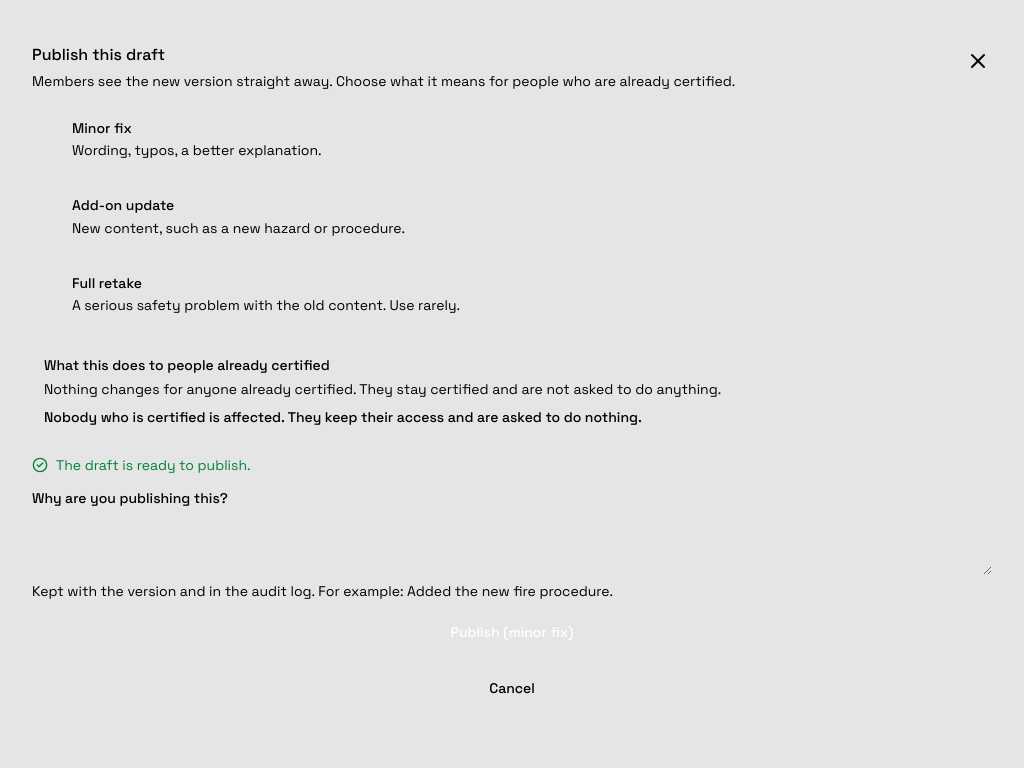
Test: PublishDialog publishing › lists what the server refused and keeps the dialog open
Expected: the text "The draft is ready to publish." is shown, [32,456,250,474]
Type "  New fire procedure " into the text box labelled "Why are you publishing this?". click: (512, 542)
box: [32,510,992,574]
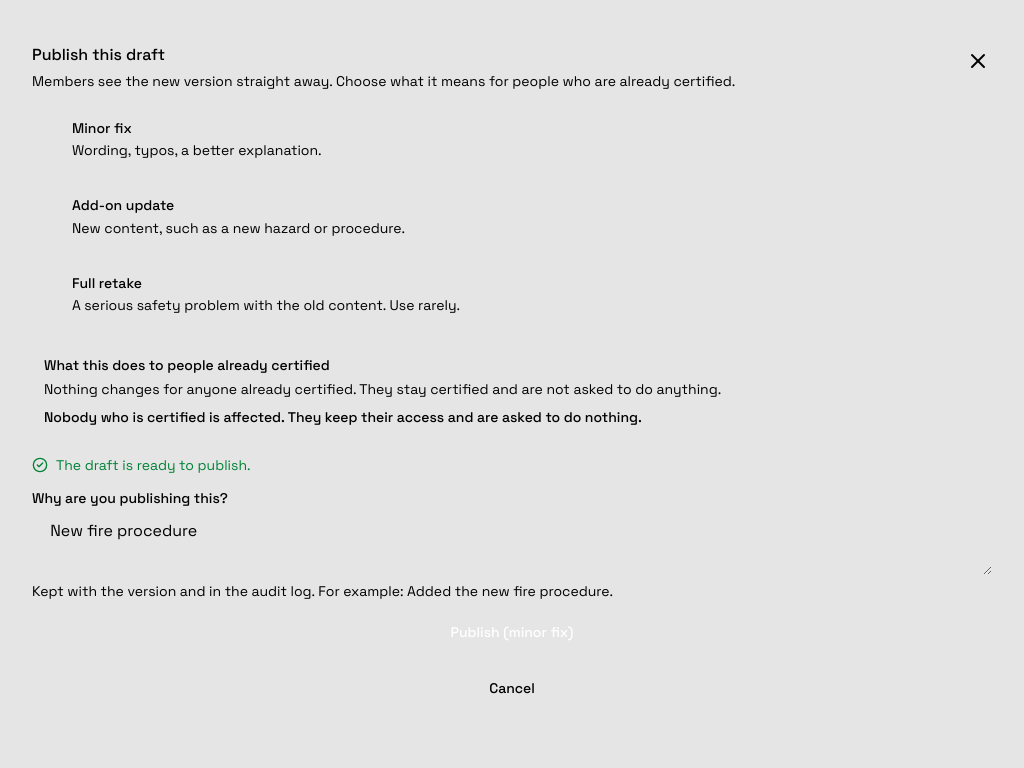
Click the button "Publish (minor fix)". click: (512, 631)
box: [32,609,992,653]
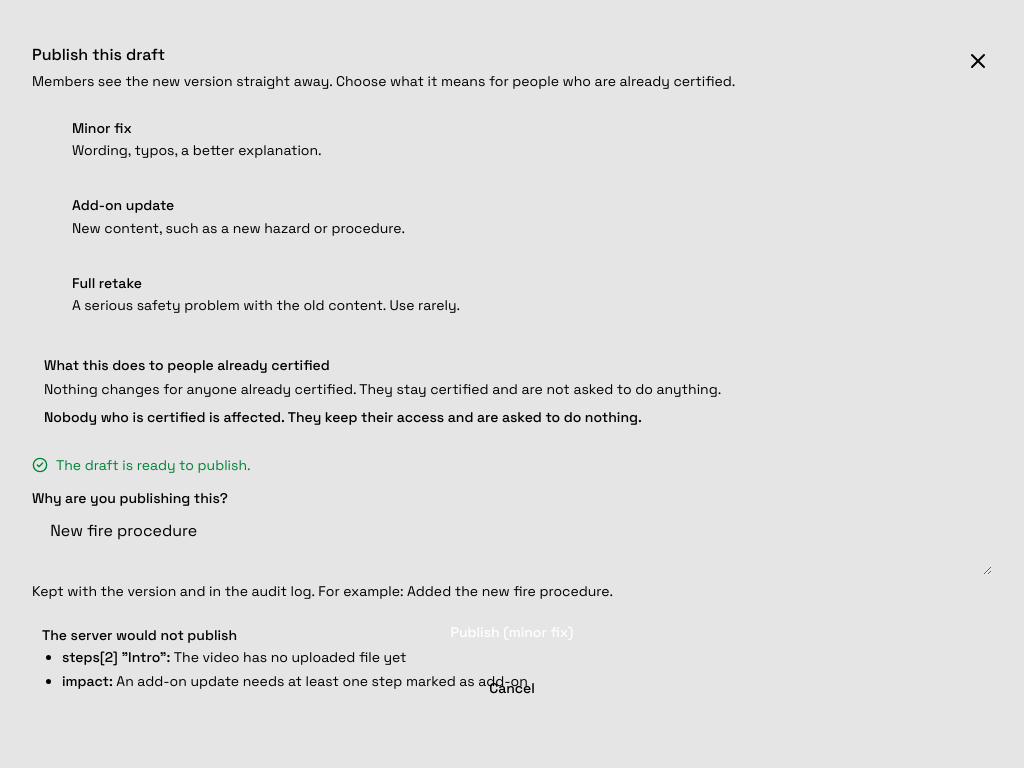
Expected: the button "Publish (minor fix)" is enabled, [32,609,992,653]
Expected: the list item "steps[2] \"Intro\": The video has no uploaded file yet" is shown, [62,648,406,666]
Expected: the list item "marked as add-on" is shown, [116,672,528,690]
